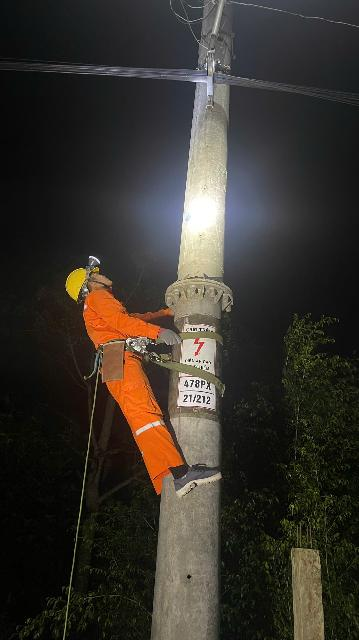gloves: (155, 322, 188, 348)
harness: (84, 331, 191, 370)
helmet: (48, 253, 111, 297)
shoes: (169, 457, 223, 502)
